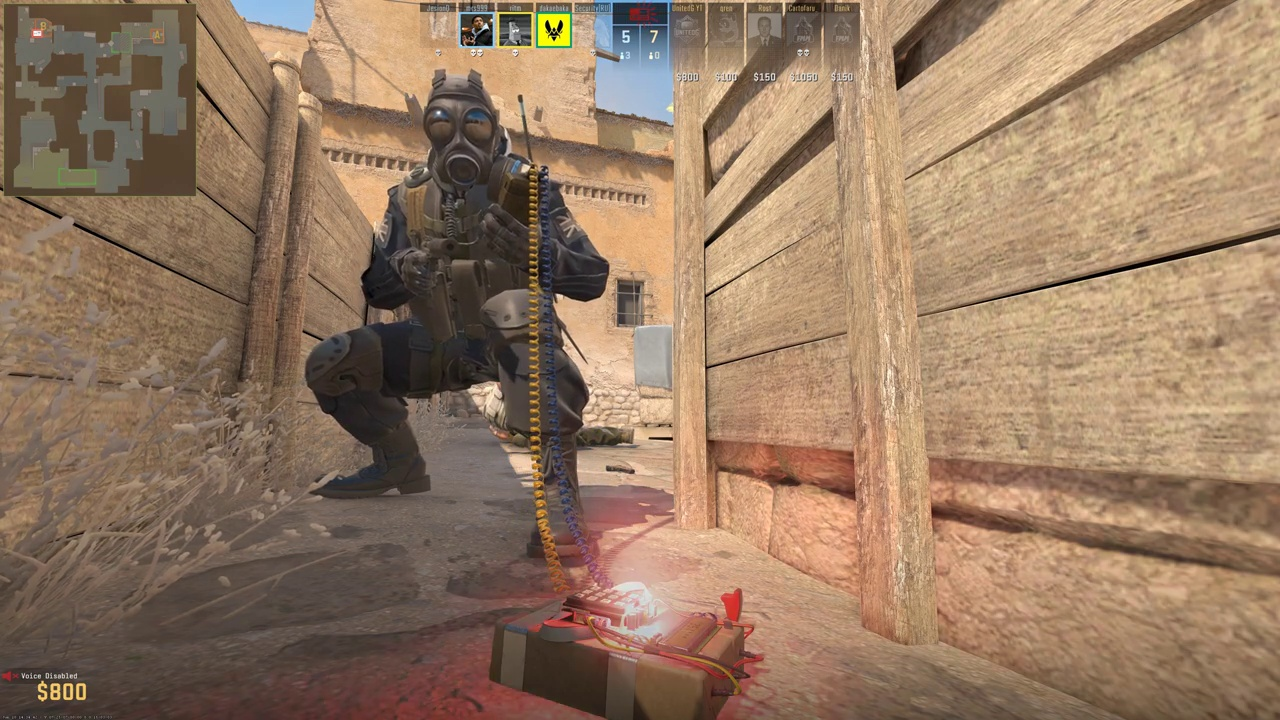CT: (325, 71, 589, 529)
